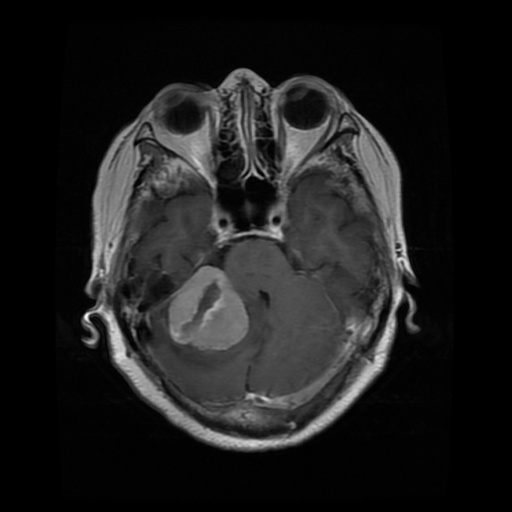meningioma: (168, 265, 248, 350)
